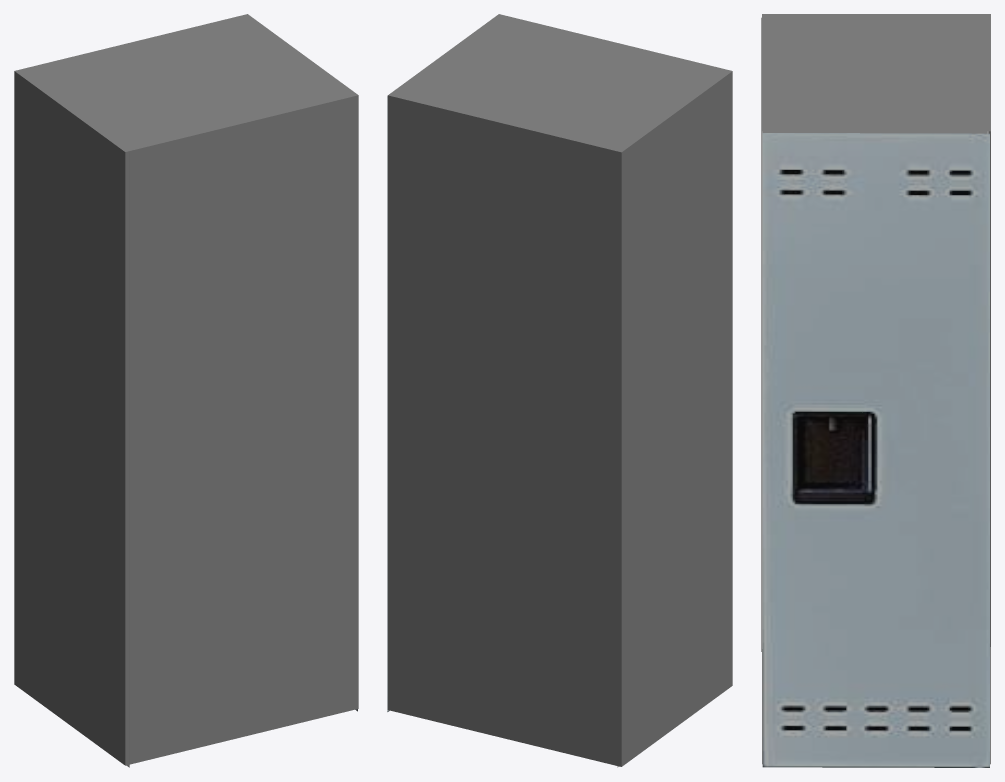
Rendered from Locker5int.fbx.
3 views of the same model, side by side, from view 1: azimuth 30°, elevation 25°; view 2: azimuth 150°, elevation 25°; view 3: azimuth 270°, elevation 25° (orthographic). The views are drawn at different scales.
Visible parts, largest first — view 1: Plane, Plane.002; view 2: Plane, Plane.001; view 3: Plane.001, Plane, Plane.002.
Boxes of the visible parts, box(x1,y1,x2,y2) form: Plane: box(14, 14, 358, 765); Plane.002: box(126, 153, 129, 767); Plane: box(387, 14, 732, 766); Plane.001: box(387, 96, 389, 711); Plane.001: box(762, 133, 989, 767); Plane: box(762, 14, 990, 764); Plane.002: box(761, 17, 988, 651).
Bounding box in the file's own units: 74.5 × 187 × 61.31.
Materials: 3 (1 with a texture image).
